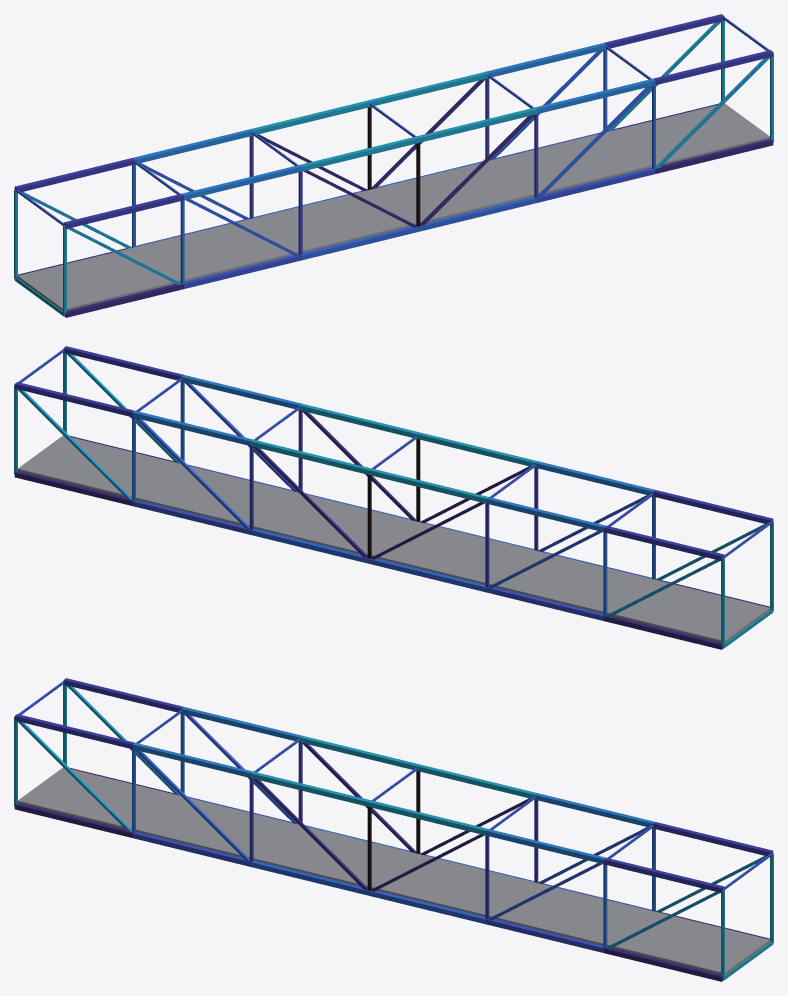
File: 25_3_6_HEA240.glb
3 views of the same model, one above another, from view 1: azimuth 30°, elevation 25°; view 2: azimuth 150°, elevation 25°; view 3: azimuth 330°, elevation 25° (orthographic).
Size of the model in its own units: 25.09 by 3.16 by 3.16.
